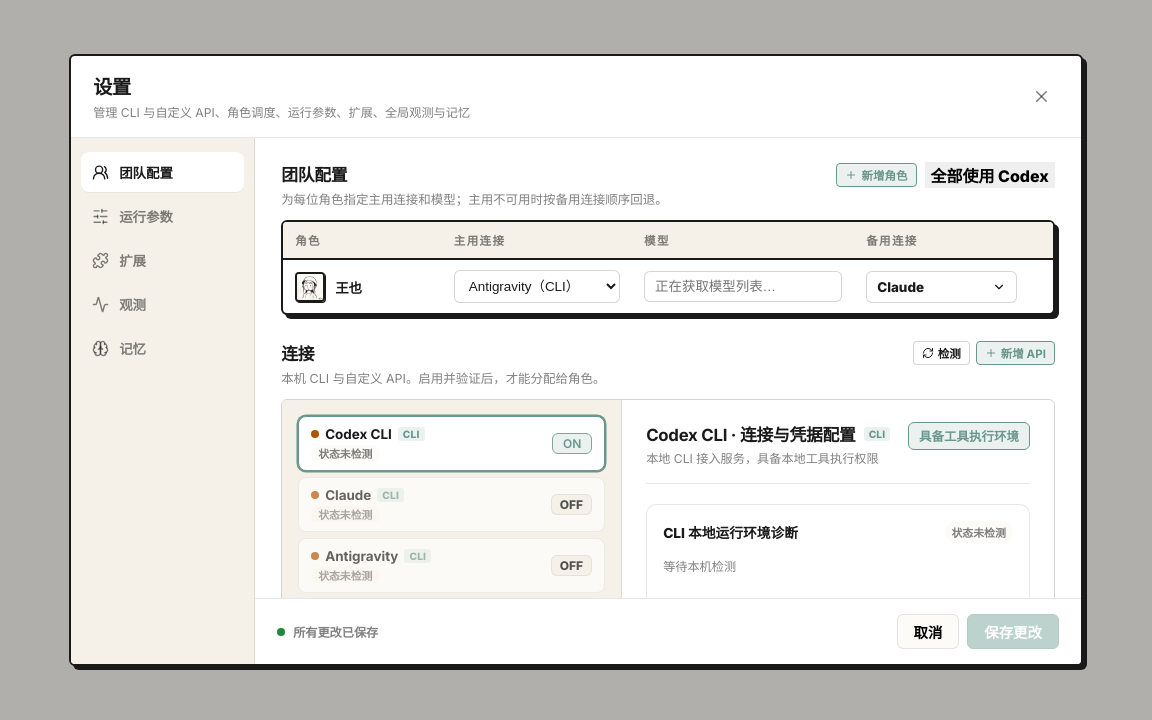
SettingsModal › opens the global observability tab without a save bar
Click the button "观测" at (163, 304), box x1=81 y1=284 x2=244 y2=324
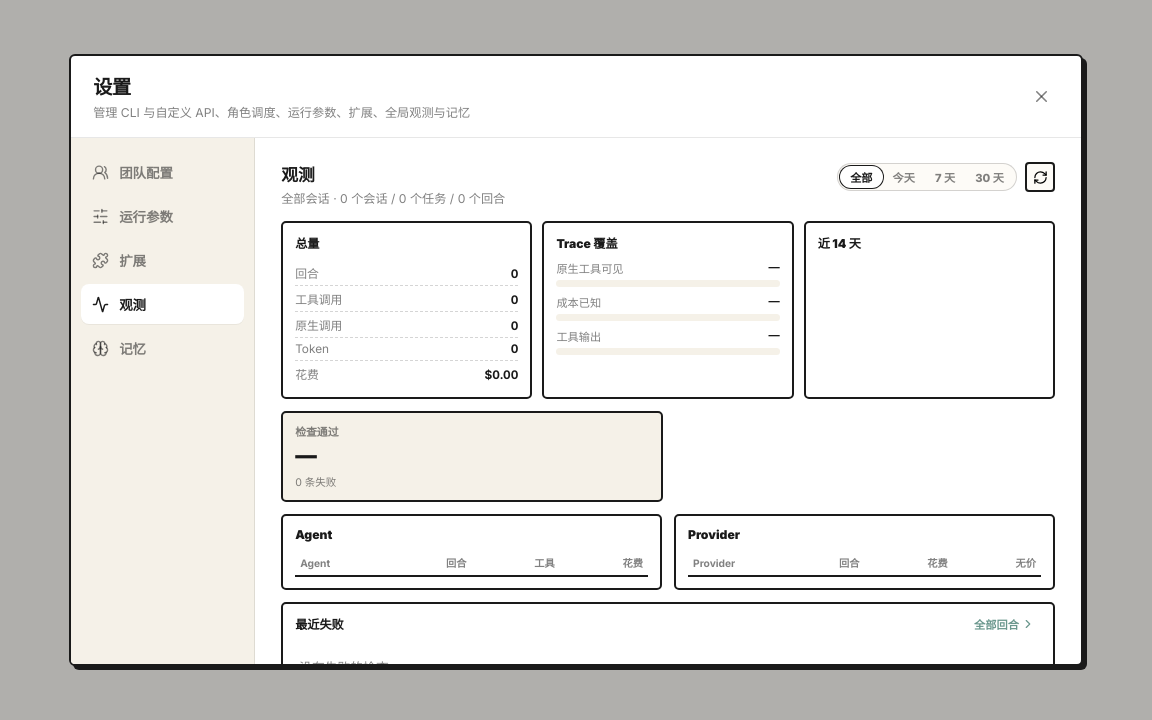
expect the heading "观测" is shown: met, box x1=281 y1=165 x2=315 y2=185
expect the text "全部会话 · 0 个会话 / 0 个任务 / 0 个回合" is shown: met, box x1=281 y1=189 x2=505 y2=207
expect the button with test id "settings-save" is gone: met
